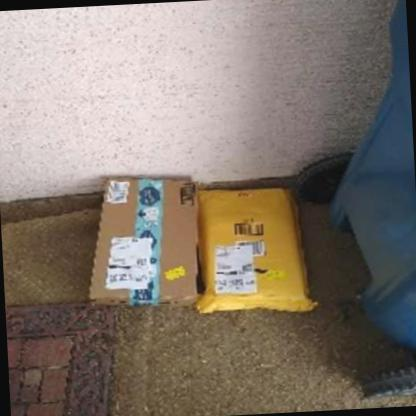box: (87, 168, 202, 310)
envelope: (194, 182, 320, 317)
